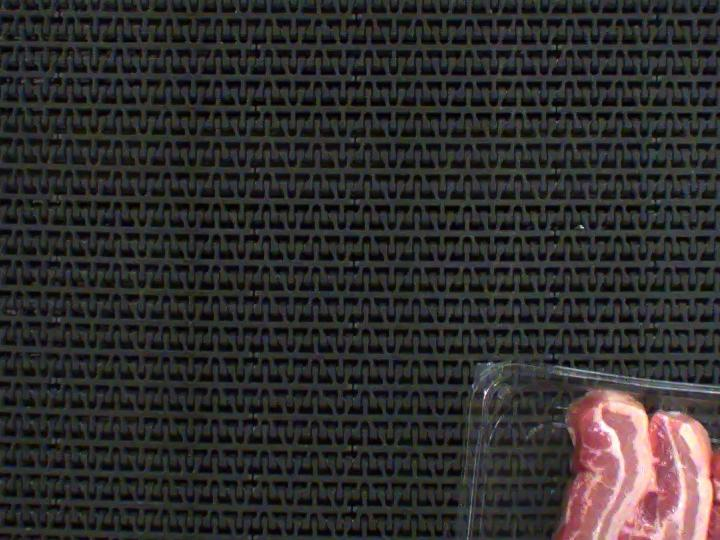packaging-error: (583, 374, 644, 402), (653, 394, 693, 419)
